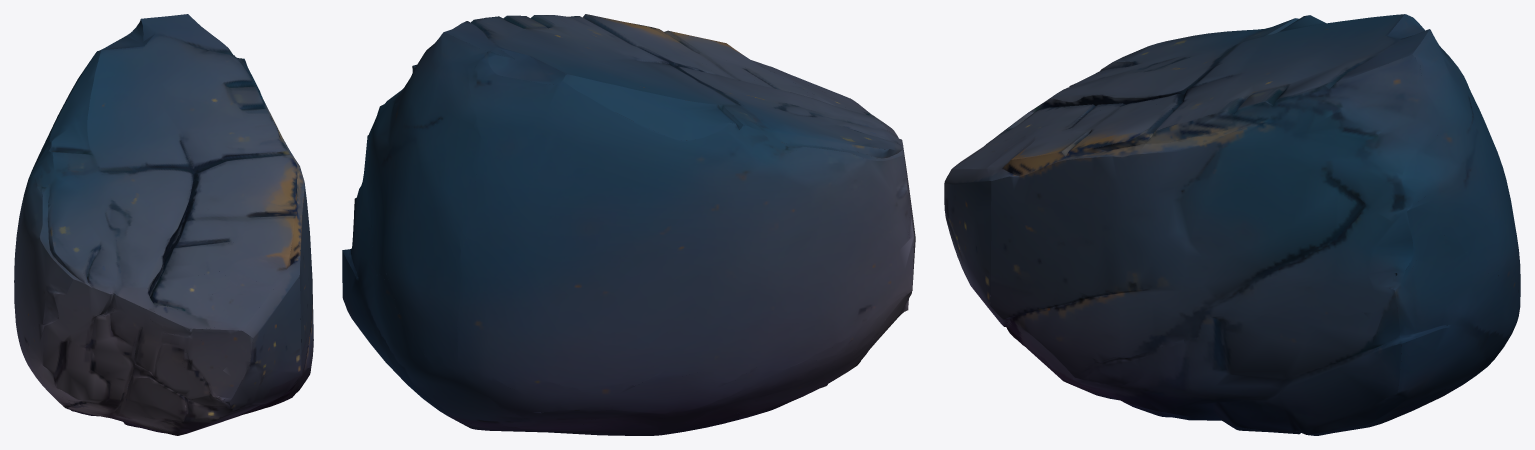
Rendered from horizontal_boulder2.glb.
3 renders of one model, left to right at view 1: azimuth 30°, elevation 25°; view 2: azimuth 150°, elevation 25°; view 3: azimuth 270°, elevation 25°, orthographic. The views are drawn at different scales.
Visible parts, largest first — view 1: node_0; view 2: node_0; view 3: node_0.
Part boxes in pixels (x1,y1,x2,y2): node_0: (14,14,313,435); node_0: (342,14,915,435); node_0: (944,14,1520,435).
Bounding box in the file's own units: 0.9135 × 0.7423 × 1.08.
Materials: 1 (1 with a texture image).
